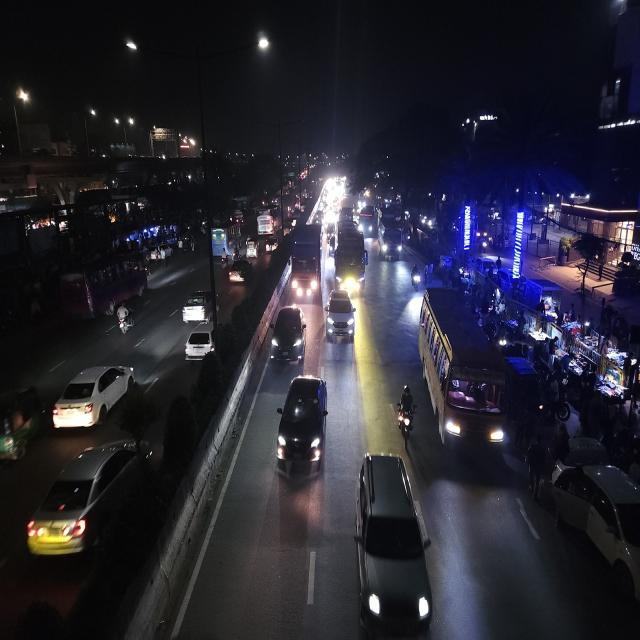bus: (416, 286, 510, 462), (59, 251, 150, 316), (376, 209, 403, 262), (210, 218, 237, 257), (255, 203, 282, 239), (359, 204, 377, 239)
car: (24, 432, 156, 568), (352, 445, 436, 640), (552, 454, 640, 626), (50, 356, 138, 434), (275, 370, 330, 480), (268, 304, 306, 366), (324, 288, 358, 349), (182, 319, 219, 366), (180, 286, 220, 325), (228, 255, 254, 288)
cng: (0, 382, 42, 466), (244, 235, 259, 259)
motorcycle: (395, 381, 417, 444), (114, 304, 136, 337), (410, 262, 422, 293)
pedestrian: (526, 433, 549, 502), (424, 261, 429, 285)
truck: (289, 223, 324, 304), (334, 224, 368, 294)
